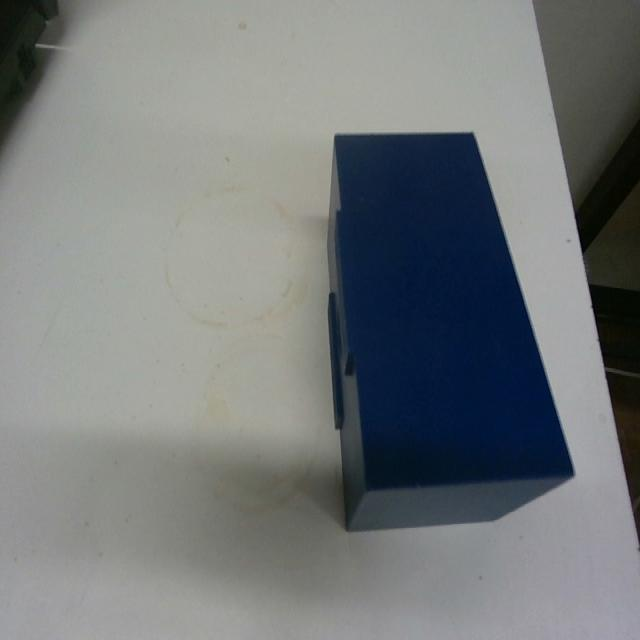Blue Cuboid: (323, 127, 575, 532)
